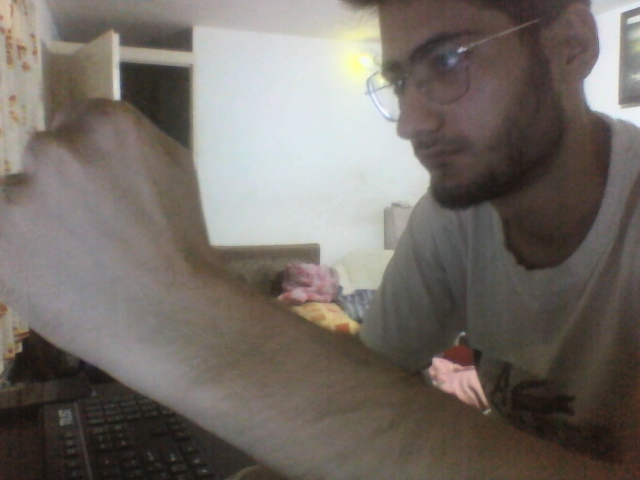attack: (7, 96, 207, 375)
sorat: (369, 0, 597, 212)
